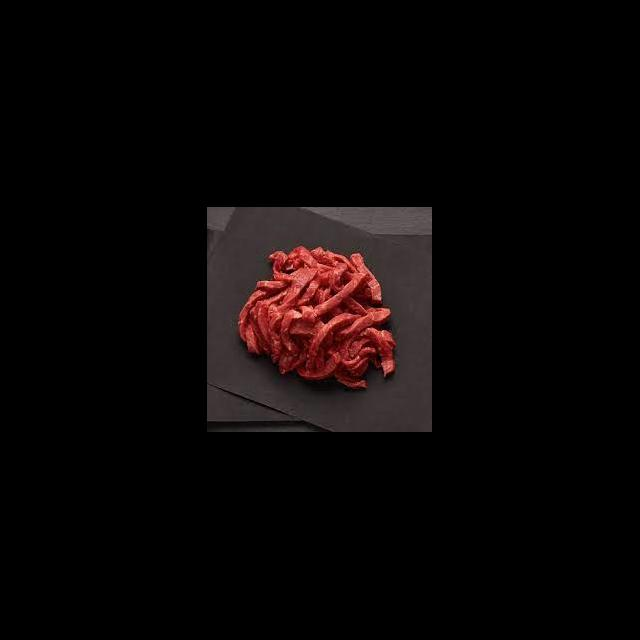beef: (236, 247, 396, 391)
